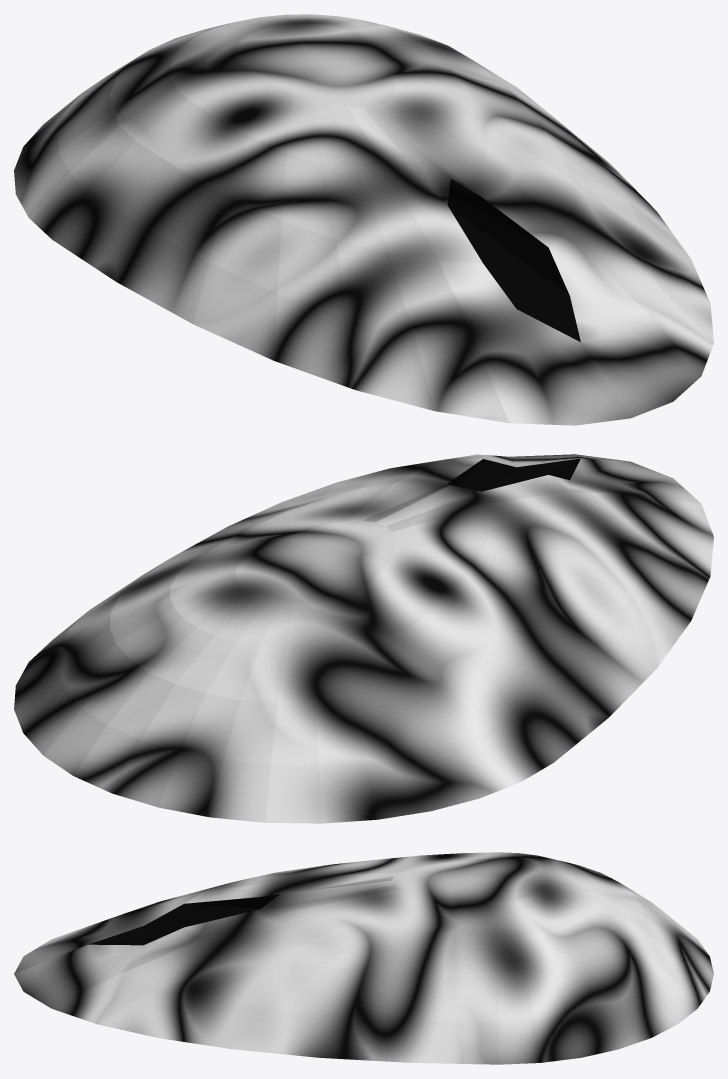
Rendered from TankTurret.dae.
3 views of the same model, one above another, from view 1: azimuth 30°, elevation 25°; view 2: azimuth 150°, elevation 25°; view 3: azimuth 270°, elevation 25° (orthographic). The views are drawn at different scales.
Visible parts, largest first — view 1: Sphere; view 2: Sphere; view 3: Sphere.
Part boxes in pixels (bbox=[...]): Sphere: bbox=[14, 14, 713, 425]; Sphere: bbox=[14, 454, 713, 823]; Sphere: bbox=[14, 852, 713, 1064].
Bounding box in the file's own units: 1.66 × 2.71 × 0.4181.
Materials: 1 (1 with a texture image).
